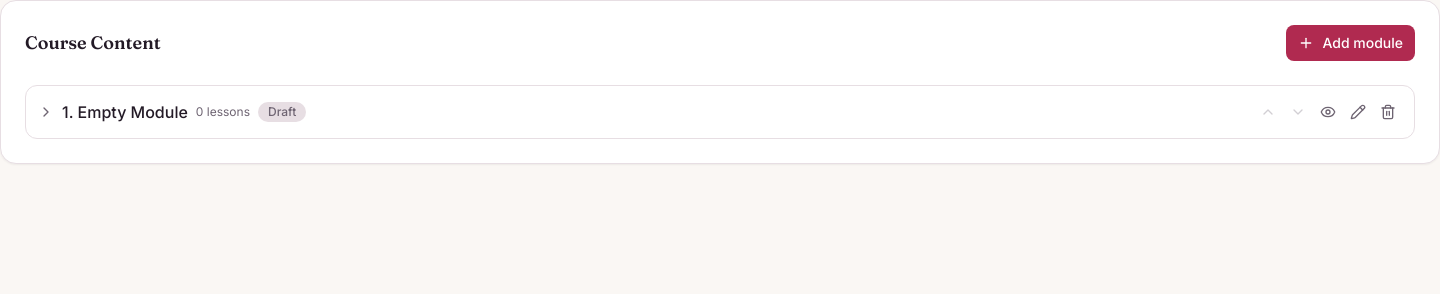
CourseContentManager › expands a module, loads its lessons, and shows the no-lessons state
The width and height of the screenshot is (1440, 294).
Click the button with aria-label "Expand module Empty Module" at point(133, 112), box [38, 100, 1246, 124]
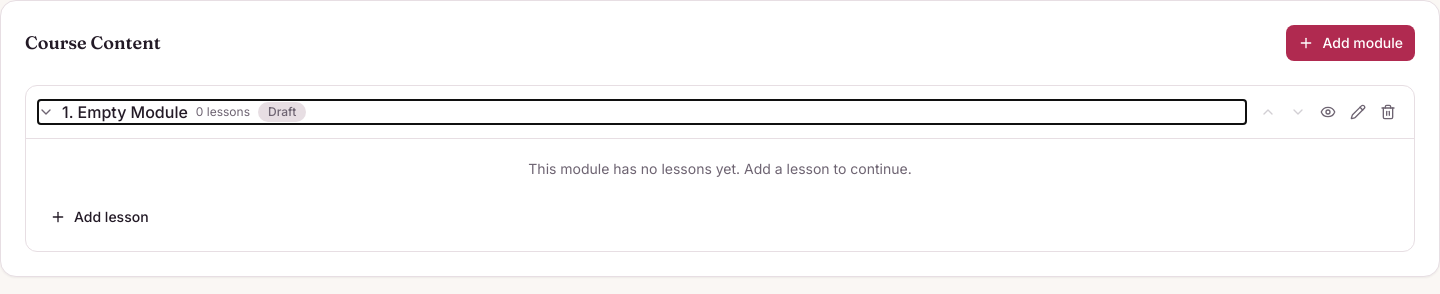
Now the text "This module has no lessons yet. Add a lesson to continue." is shown, box [528, 160, 912, 177]
